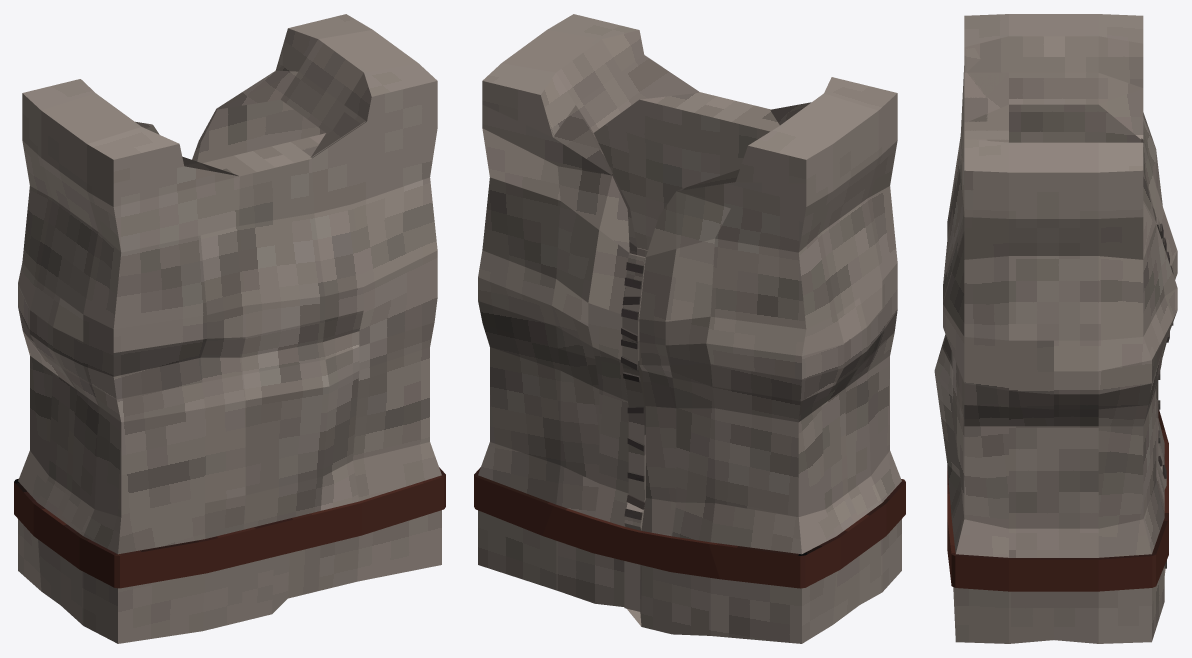
3 renders of one model, left to right at view 1: azimuth 30°, elevation 25°; view 2: azimuth 150°, elevation 25°; view 3: azimuth 270°, elevation 25°, orthographic. The views are drawn at different scales.
Parts seen in each view (by area): view 1: body, body_flat; view 2: body, body_flat; view 3: body, body_flat.
Part boxes in pixels (bbox=[...]): body: bbox=[14, 14, 445, 643]; body_flat: bbox=[136, 52, 365, 175]; body: bbox=[474, 14, 905, 643]; body_flat: bbox=[548, 56, 809, 256]; body: bbox=[934, 14, 1177, 643]; body_flat: bbox=[966, 48, 1141, 142].
Bounding box in the file's own units: 0.5875 × 0.8 × 0.3563.
1 material, 1 textured.
